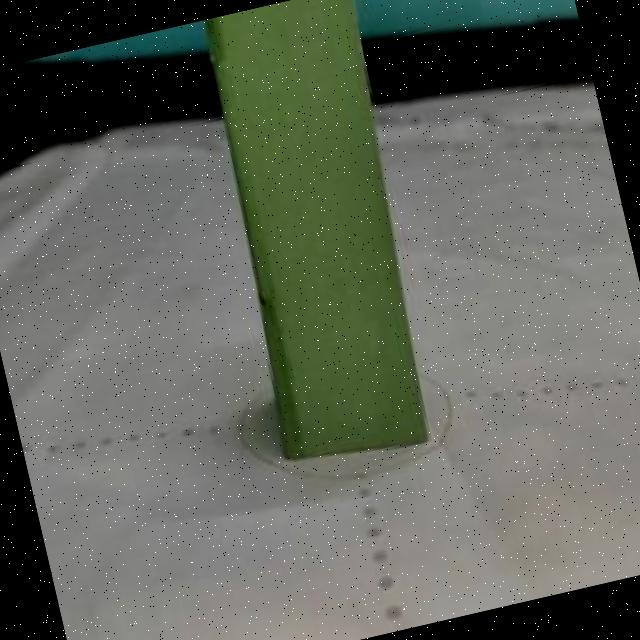greenbox: (185, 0, 456, 473)
